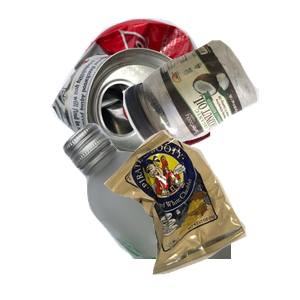glass: (60, 120, 300, 300)
metal: (48, 15, 251, 175)
plastic: (120, 37, 300, 185)
trash: (101, 127, 300, 300)
